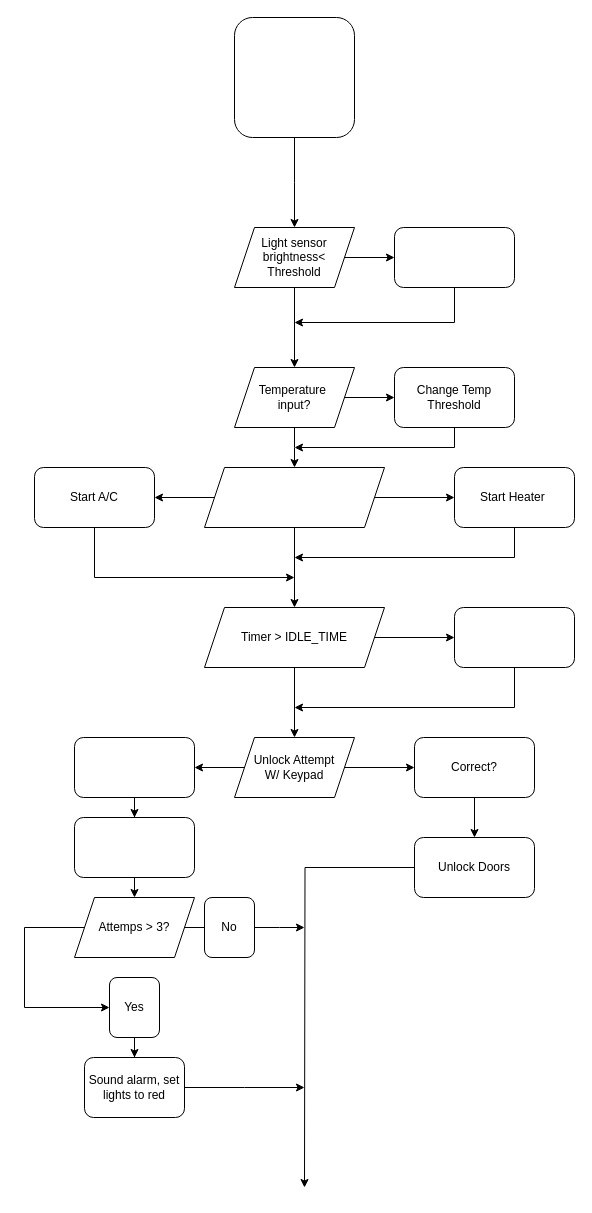
The diagram is 592 pixels wide and 1213 high, and some of its shapes have lost their labels. Here are the shapes that lost their labels. From the top down, the centre of each, then its label:
(294,77): Init Start displays and sensors
(454,257): Turn on Lights
(294,497): Temperature < Threshold Temp = Threshold Temp > Threshold
(514,637): Lock Doors
(134,767): Incorrect?
(134,847): Increment Failed Attempts Counter
